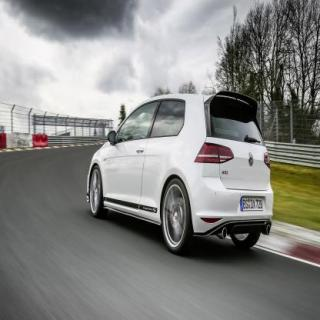Normal_vehicle: (86, 91, 273, 255)
